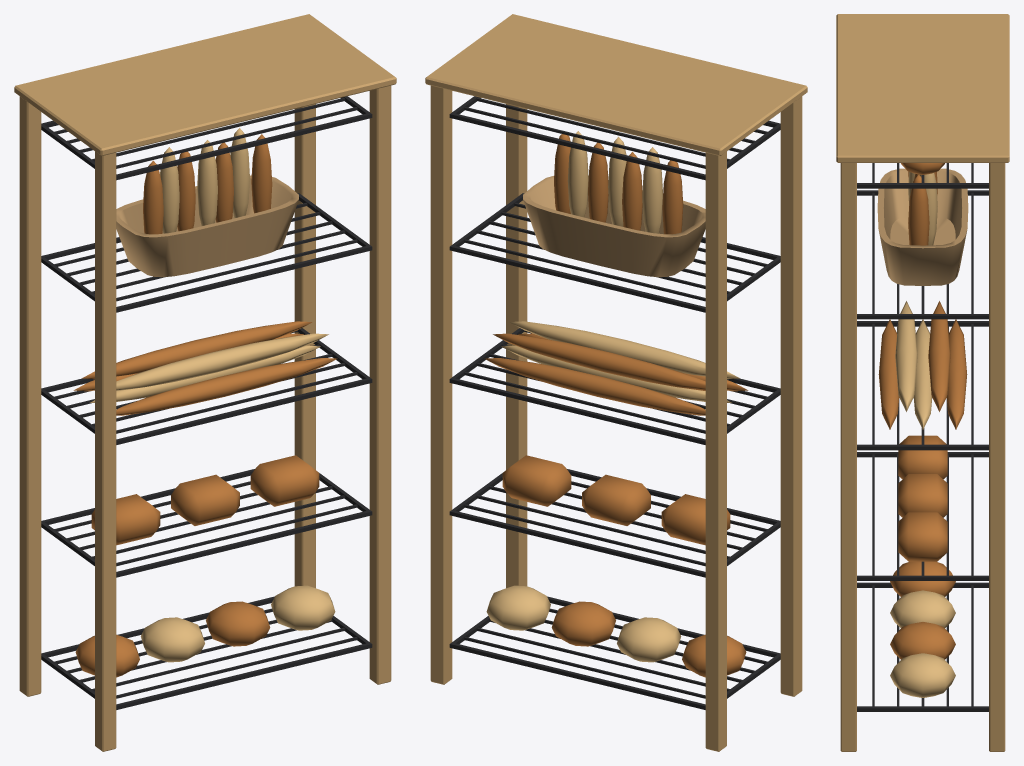
The model's file is bread_rack.glb.
3 renders of one model, left to right at view 1: azimuth 30°, elevation 25°; view 2: azimuth 150°, elevation 25°; view 3: azimuth 270°, elevation 25°, orthographic.
Visible parts, largest first — view 1: bread_rack, bread; view 2: bread_rack, bread; view 3: bread_rack, bread.
Boxes of the visible parts, x1,y1,x2,y2 form: bread_rack: [14, 14, 396, 751]; bread: [73, 128, 337, 677]; bread_rack: [425, 14, 807, 751]; bread: [484, 131, 748, 677]; bread_rack: [836, 14, 1009, 751]; bread: [877, 163, 968, 697].
Size of the model in its own units: 0.82 by 1.6 by 0.42.
